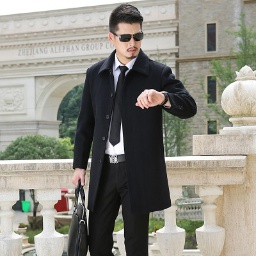face: (108, 4, 144, 59)
